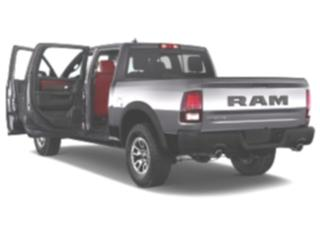ram: (225, 92, 293, 110)
